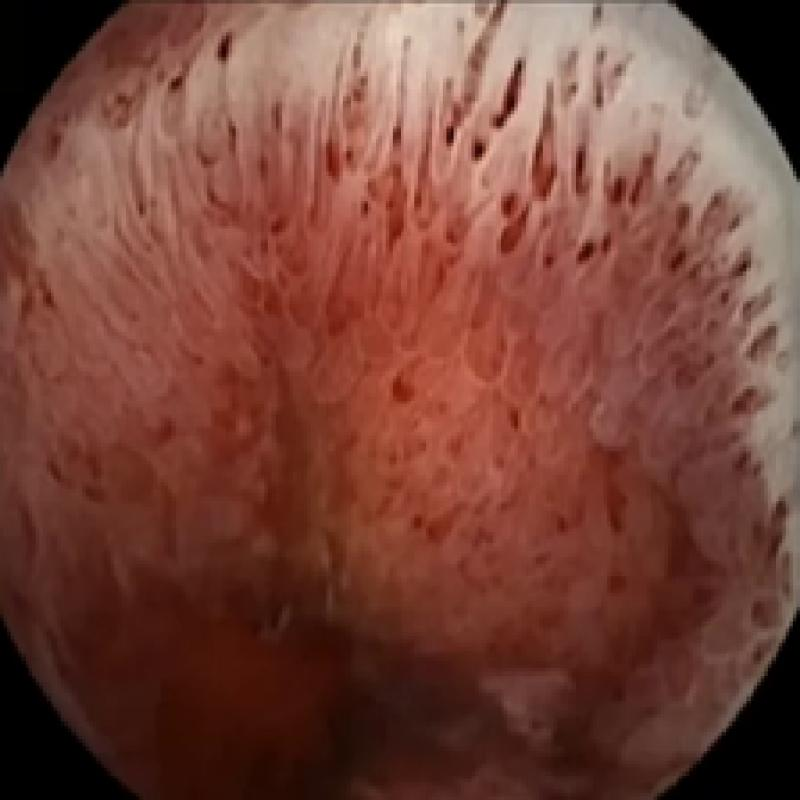bleeding: (71, 103, 782, 800)
